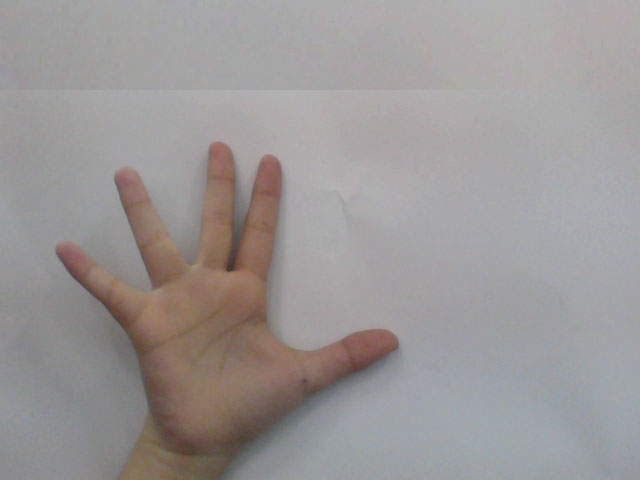hand: (37, 129, 410, 428)
